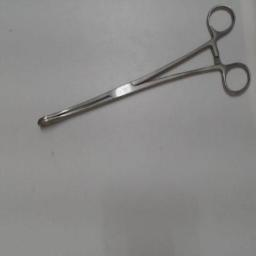Sponge Forceps: (32, 1, 254, 133)
